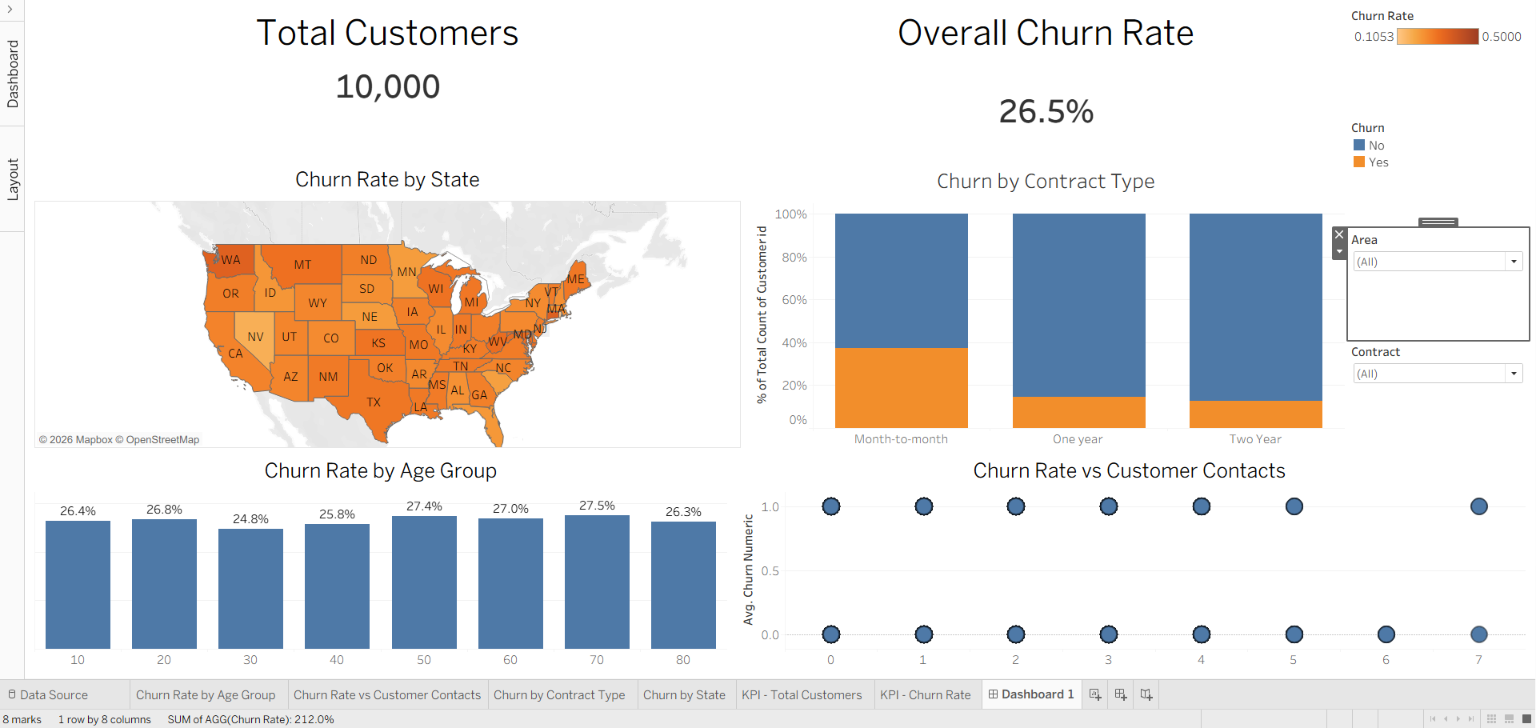

What the dashboard file says about the page in this screenshot:
{"tool":"tableau","page":{"name":"Dashboard 1","canvas":[1000,1000],"units":"permille","ordinal":0},"visuals":[{"type":"worksheet","title":"KPI - Total Customers","mark":"Automatic","box":[4.2,9.4,471.9,155.1]},{"type":"worksheet","title":"KPI - Churn Rate","mark":"Automatic","box":[476.2,9.4,399.9,229.2]},{"type":"legend","title":"Churn by State","param":"[federated.13q3cqk1u38jz51b796vj008t0of].[usr:Calculation_0146015327674369:qk]","box":[876.1,9.4,119.7,164.5]},{"type":"legend","title":"Churn by Contract Type","param":"[federated.13q3cqk1u38jz51b796vj008t0of].[none:Churn:nk]","box":[876.1,173.9,119.7,164.5]},{"type":"worksheet","title":"Churn by State","mark":"Multipolygon","box":[4.2,238.6,471.9,427.7]},{"type":"worksheet","title":"Churn by Contract Type","mark":"Automatic","cols":["Contract"],"box":[476.2,238.6,399.9,427.7]},{"type":"filter","title":"Churn Rate by Age Group","param":"[federated.13q3cqk1u38jz51b796vj008t0of].[none:Area:nk]","box":[876.1,338.4,119.7,164.5]},{"type":"filter","title":"Churn Rate vs Customer Contacts","param":"[federated.13q3cqk1u38jz51b796vj008t0of].[none:Contract:nk]","box":[876.1,502.9,119.7,163.3]},{"type":"worksheet","title":"Churn Rate by Age Group","mark":"Bar","rows":["Calculation_0146015327674369"],"cols":["Age (bin)"],"box":[4.2,666.3,462.8,324.3]},{"type":"worksheet","title":"Churn Rate vs Customer Contacts","mark":"Circle","rows":["Calculation_0146015049756672"],"cols":["Contacts"],"box":[467,666.3,528.7,324.3]}]}

Visuals, with their boxes on the dashboard's canvas, which has no fixed pixel size, in thousandths of its width and height (x1, y1, x2, y2). These are canvas units, not pixel positions in the 1536x728 screenshot, which may show the page scaled, cropped or inside an application window:
"KPI - Total Customers" worksheet: 4/9/476/164
"KPI - Churn Rate" worksheet: 476/9/876/239
"Churn by State" legend: 876/9/996/174
"Churn by Contract Type" legend: 876/174/996/338
"Churn by State" worksheet (Multipolygon marks): 4/239/476/666
"Churn by Contract Type" worksheet: 476/239/876/666
"Churn Rate by Age Group" filter: 876/338/996/503
"Churn Rate vs Customer Contacts" filter: 876/503/996/666
"Churn Rate by Age Group" worksheet (Bar marks): 4/666/467/991
"Churn Rate vs Customer Contacts" worksheet (Circle marks): 467/666/996/991
